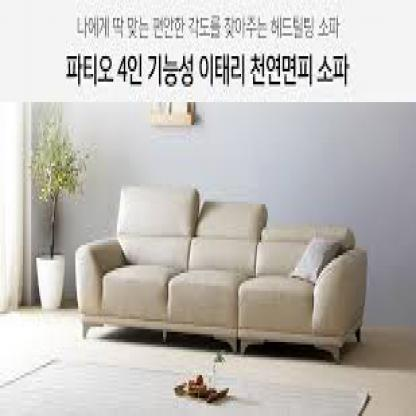sofa: (75, 189, 377, 360)
